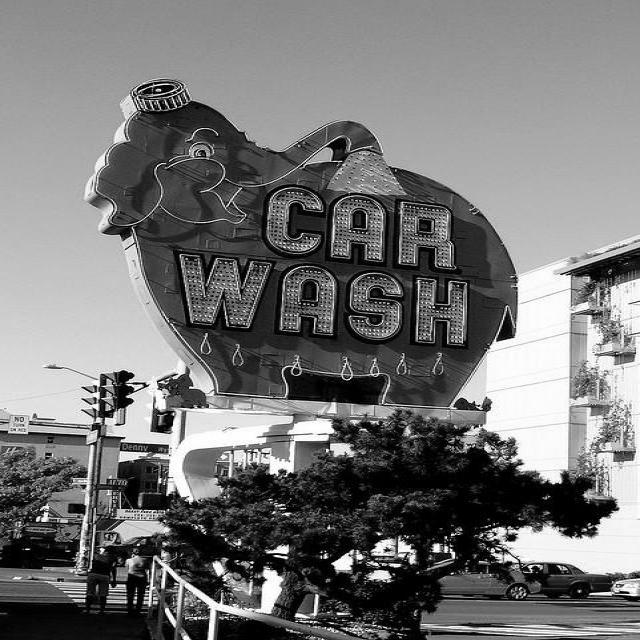vehicle: (426, 558, 542, 602), (509, 561, 611, 599), (610, 578, 640, 602)
